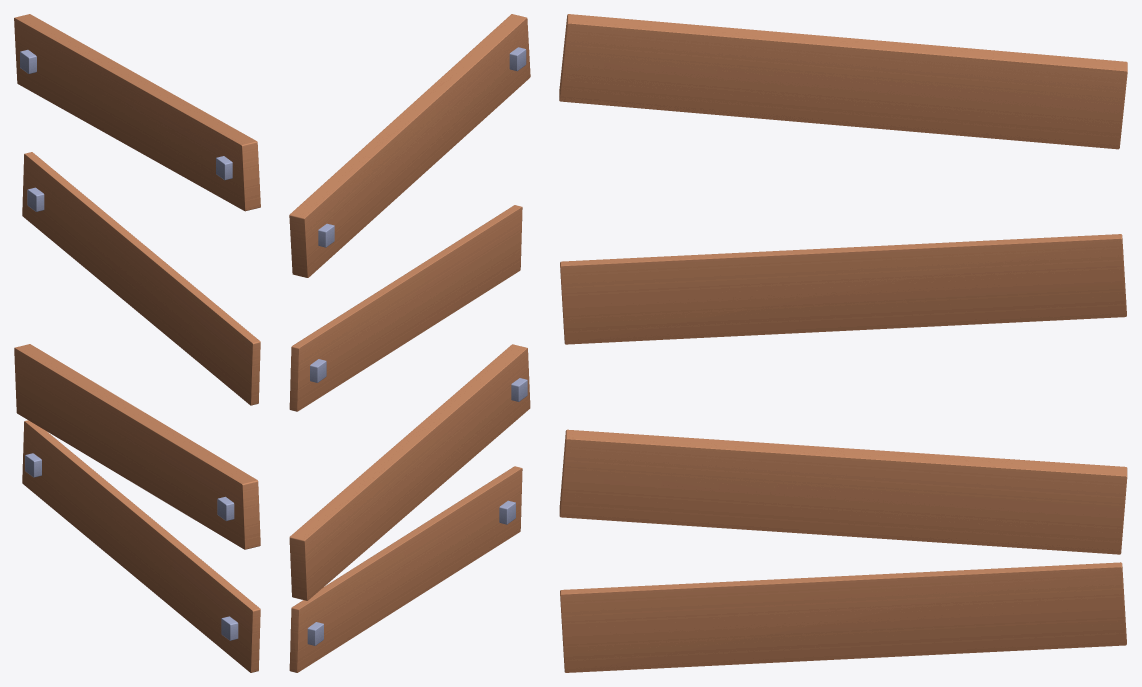
File: barricade-doorway-b.glb
The picture shows the model from 3 angles, left to right: view 1: azimuth 30°, elevation 25°; view 2: azimuth 150°, elevation 25°; view 3: azimuth 270°, elevation 25°; orthographic projection. The views are drawn at different scales.
Parts seen in each view (by area): view 1: barricade-doorway-b; view 2: barricade-doorway-b; view 3: barricade-doorway-b.
Boxes of the visible parts, x1=… form: barricade-doorway-b: x1=14, y1=14, x2=260, y2=672; barricade-doorway-b: x1=289, y1=14, x2=530, y2=672; barricade-doorway-b: x1=559, y1=14, x2=1127, y2=672.
Bounding box in the file's own units: 0.075 × 1.58 × 1.25.
1 material, 1 textured.
